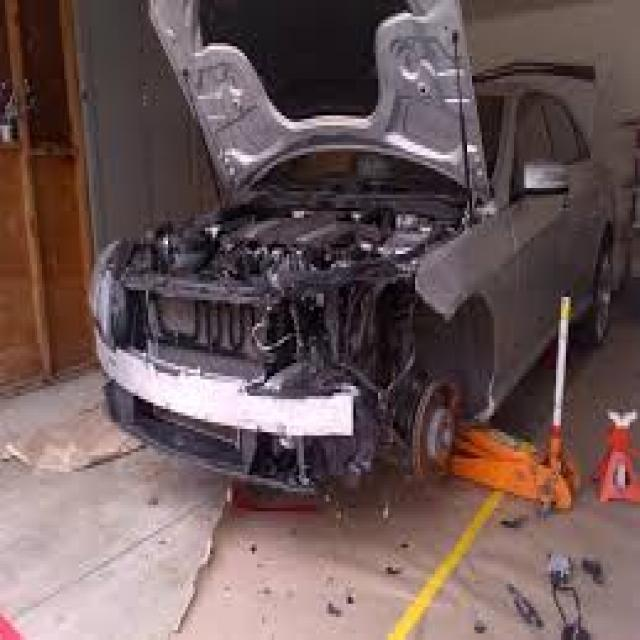moderate: (81, 30, 510, 505)
